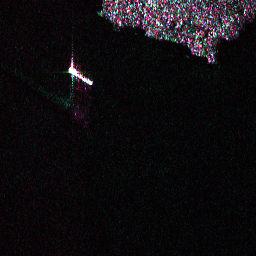ship: (66, 63, 93, 86)
